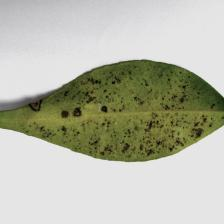canker: (22, 71, 209, 159)
